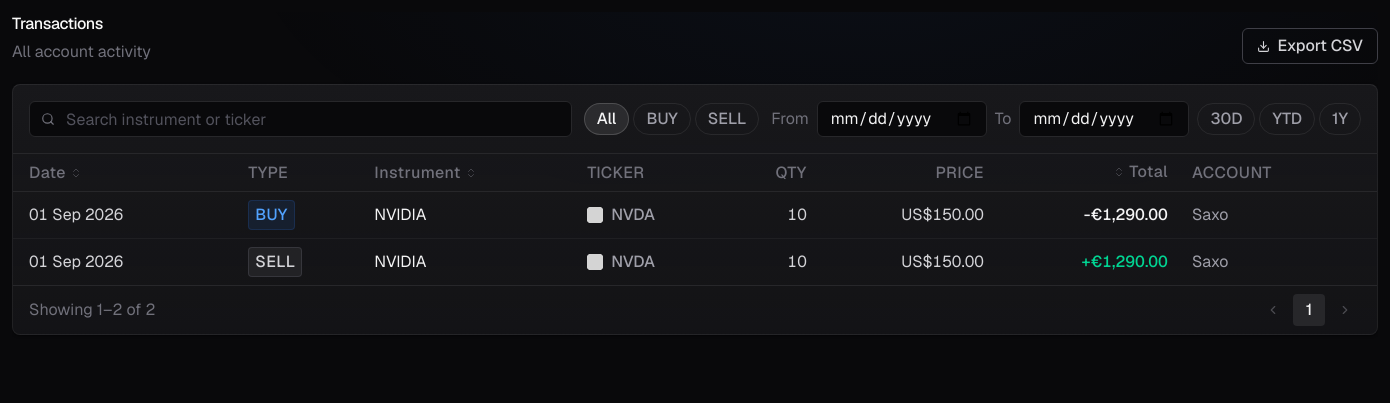
Transactions › clears an unmatched search and filter from the empty state
Step 1. Click the button "SELL" → (727, 119), box top-left (695, 103), bottom-right (759, 135)
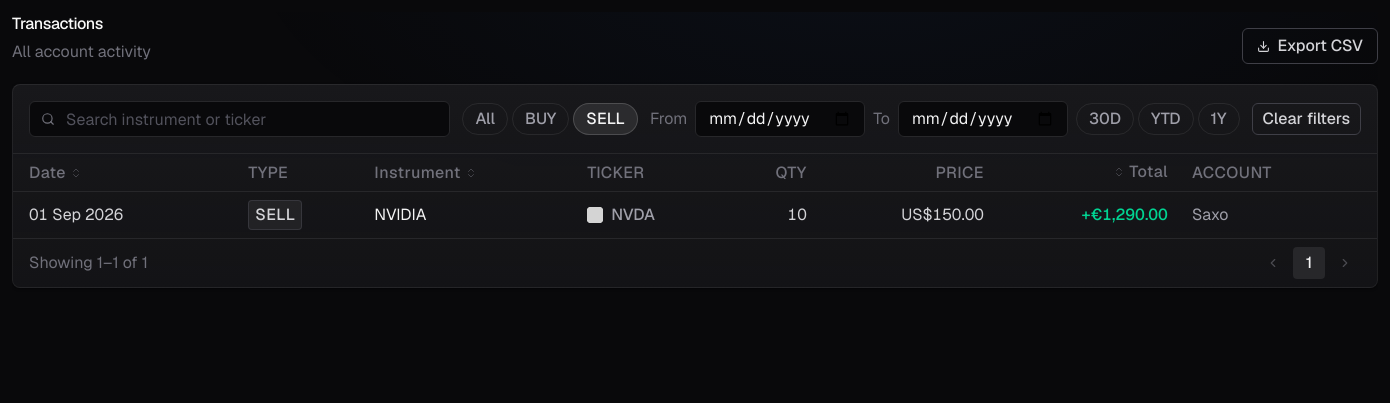
Step 2. Type "zzz" into the field → (240, 119), box top-left (29, 101), bottom-right (450, 137)
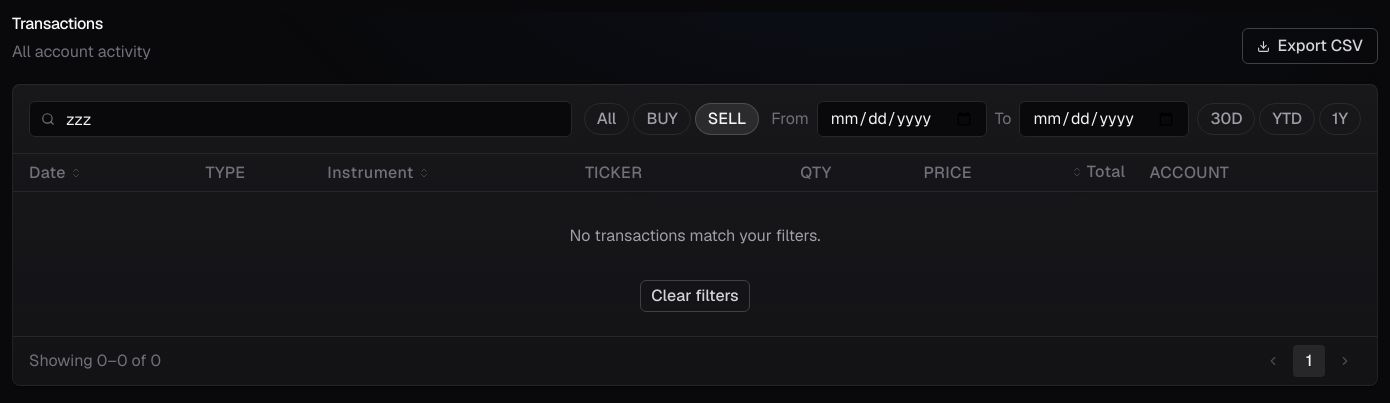
Expected: the text "No transactions match your filters." is shown, top-left (570, 225), bottom-right (820, 246)
Step 3. Click the button "Clear filters" → (695, 296), box top-left (640, 280), bottom-right (750, 312)
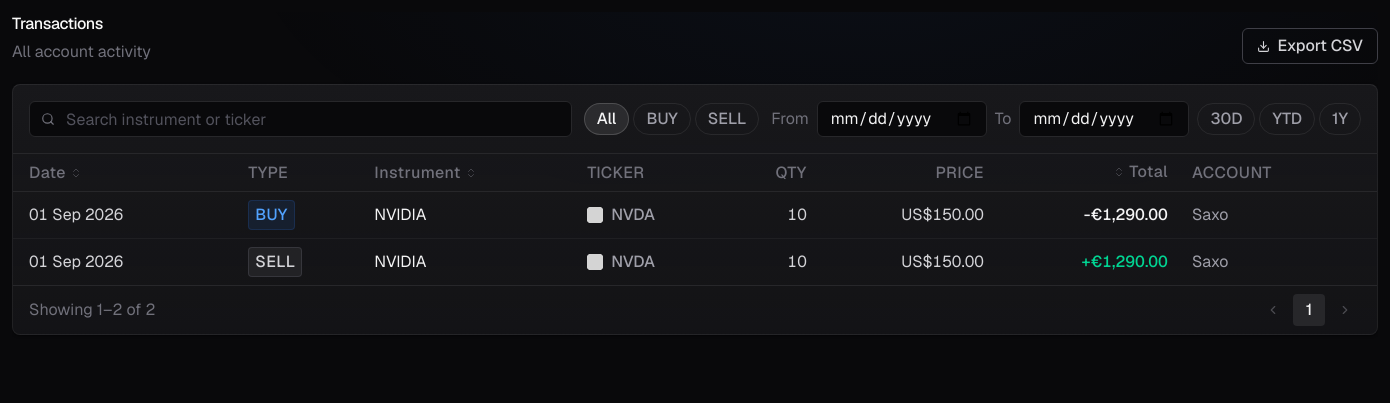
Expected: the field is empty, top-left (29, 101), bottom-right (572, 137)
Expected: the button "Clear filters" is gone
